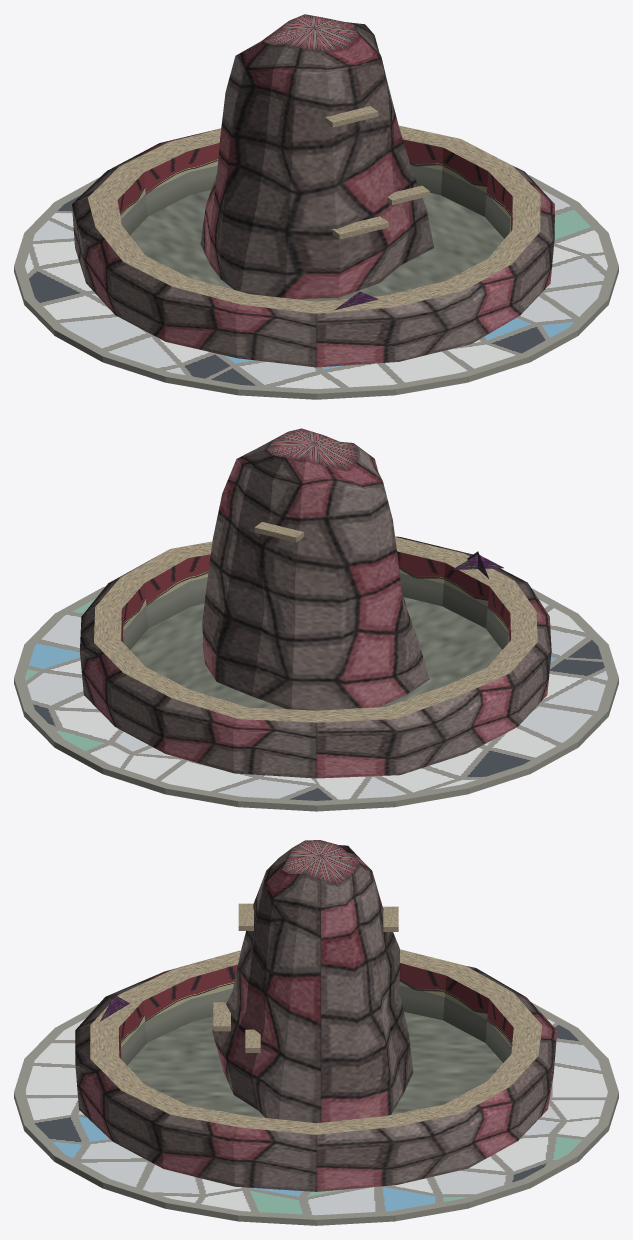
The model's file is batu_kolam_hiasan.glb.
3 views of the same model, one above another, from view 1: azimuth 30°, elevation 25°; view 2: azimuth 150°, elevation 25°; view 3: azimuth 270°, elevation 25° (orthographic).
Parts seen in each view (by area): view 1: Batu_Kolam_Hiasan; view 2: Batu_Kolam_Hiasan; view 3: Batu_Kolam_Hiasan.
Part boxes in pixels (x1=…): Batu_Kolam_Hiasan: x1=14, y1=14, x2=618, y2=399; Batu_Kolam_Hiasan: x1=14, y1=428, x2=618, y2=811; Batu_Kolam_Hiasan: x1=14, y1=840, x2=618, y2=1225.
Bounding box in the file's own units: 5.52 × 2.44 × 5.52.
Materials: 1 (1 with a texture image).
